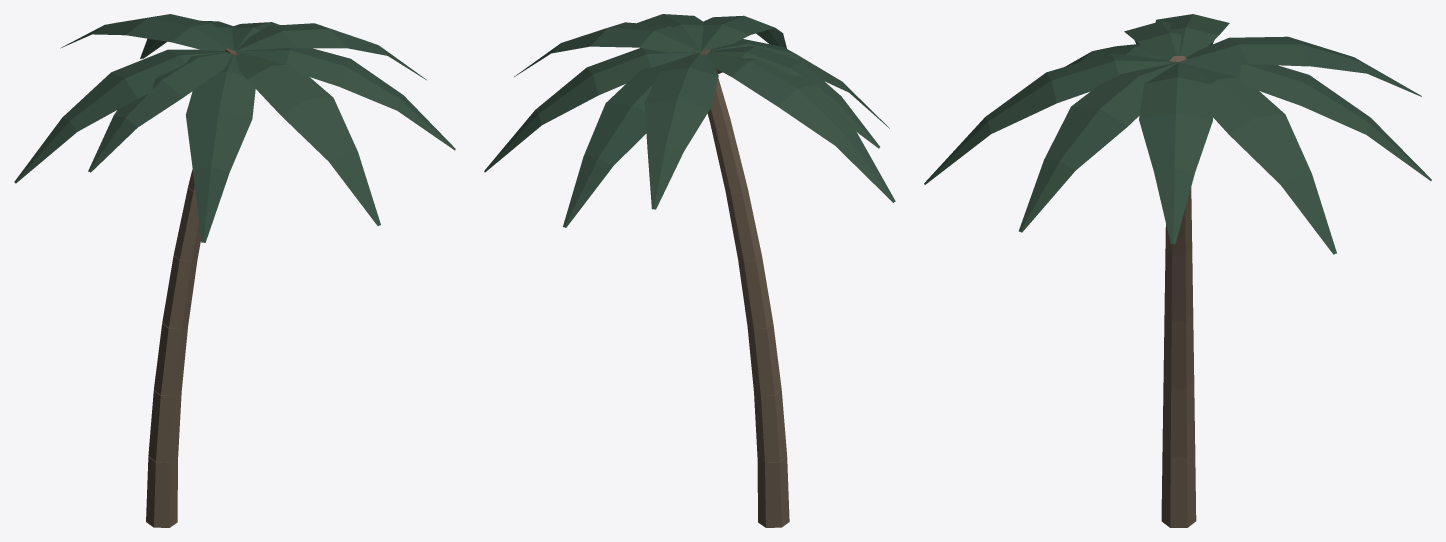
Rendered from palm.glb.
3 views of the same model, side by side, from view 1: azimuth 30°, elevation 25°; view 2: azimuth 150°, elevation 25°; view 3: azimuth 270°, elevation 25° (orthographic). The views are drawn at different scales.
Visible parts, largest first — view 1: palm; view 2: palm; view 3: palm.
Part boxes in pixels (box(x1,y1,x2,y2)): palm: box(14, 14, 455, 527); palm: box(484, 14, 895, 527); palm: box(924, 14, 1431, 527).
Bounding box in the file's own units: 8.7 × 9.7 × 8.77.
